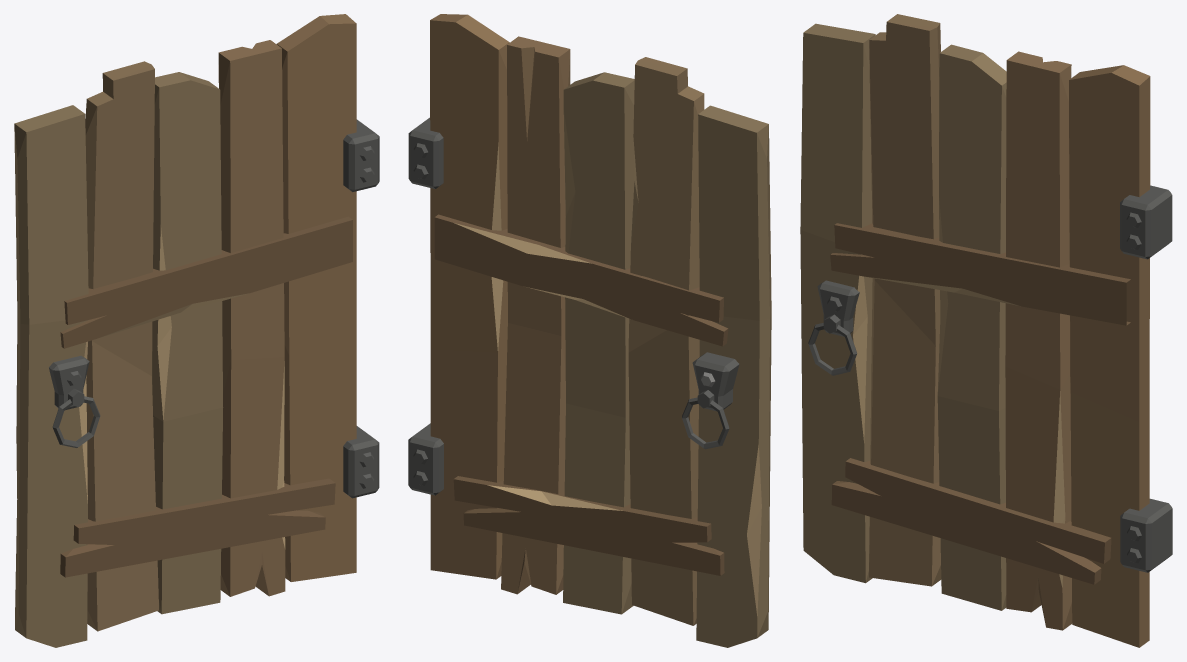
File: rpgpp_ag_door_gate_small_01_right.fbx
The picture shows the model from 3 angles, left to right: view 1: azimuth 30°, elevation 25°; view 2: azimuth 150°, elevation 25°; view 3: azimuth 330°, elevation 25°; orthographic projection. The views are drawn at different scales.
Visible parts, largest first — view 1: rpgpp_ag_door_gate_small_01_right; view 2: rpgpp_ag_door_gate_small_01_right; view 3: rpgpp_ag_door_gate_small_01_right.
Part boxes in pixels (x1,y1,x2,y2): rpgpp_ag_door_gate_small_01_right: (14, 14, 379, 647); rpgpp_ag_door_gate_small_01_right: (408, 14, 771, 647); rpgpp_ag_door_gate_small_01_right: (800, 14, 1172, 647).
Size of the model in its own units: 2.43 by 3.7 by 0.4736.
